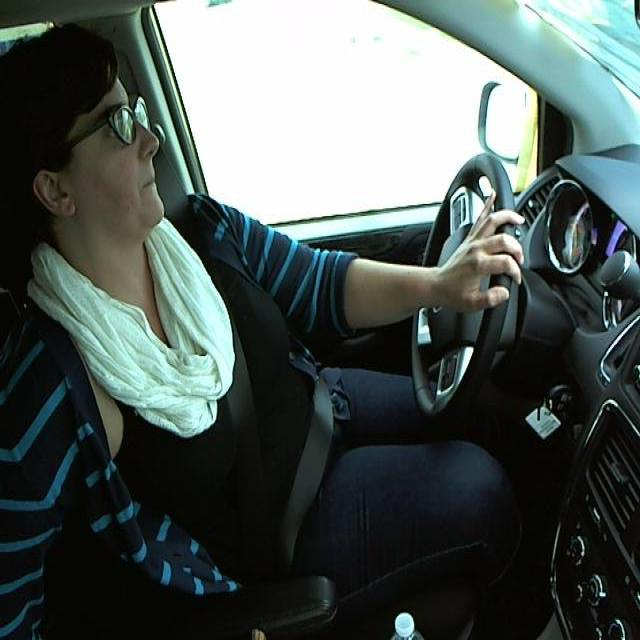seatbelt: (201, 287, 351, 580)
